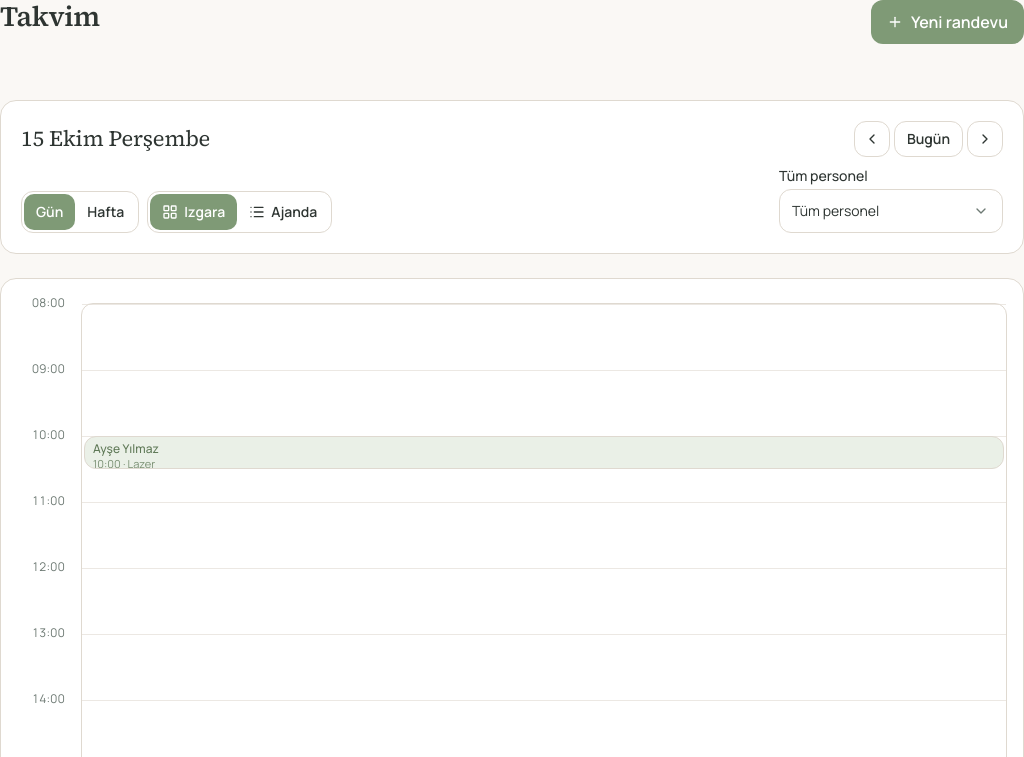
Test: takvim ekranı › ajanda modu aynı veriyi liste olarak çiziyor ve seçim KALICI
The image size is (1024, 757).
Expected: the text "Ayşe Yılmaz" is shown, [93, 441, 159, 457]
Click the button "Ajanda" at (283, 212), box [237, 194, 329, 230]
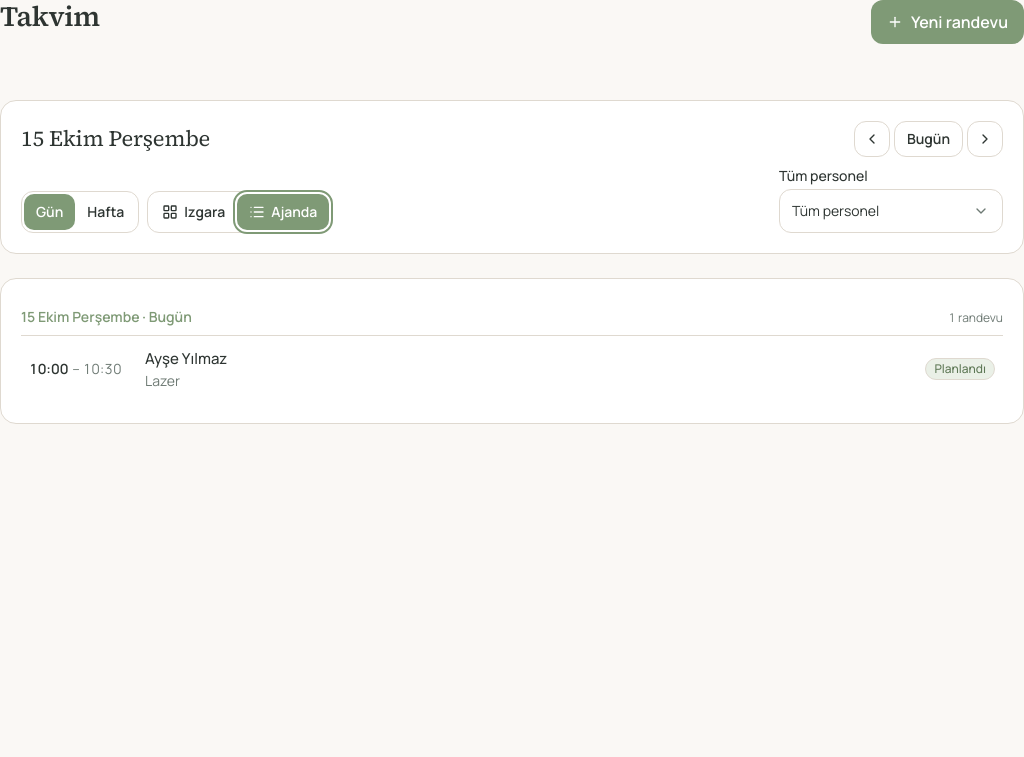
Expected: the text "Lazer" is shown, [145, 370, 180, 390]
Expected: the text "Planlandı" is shown, [926, 358, 995, 380]
